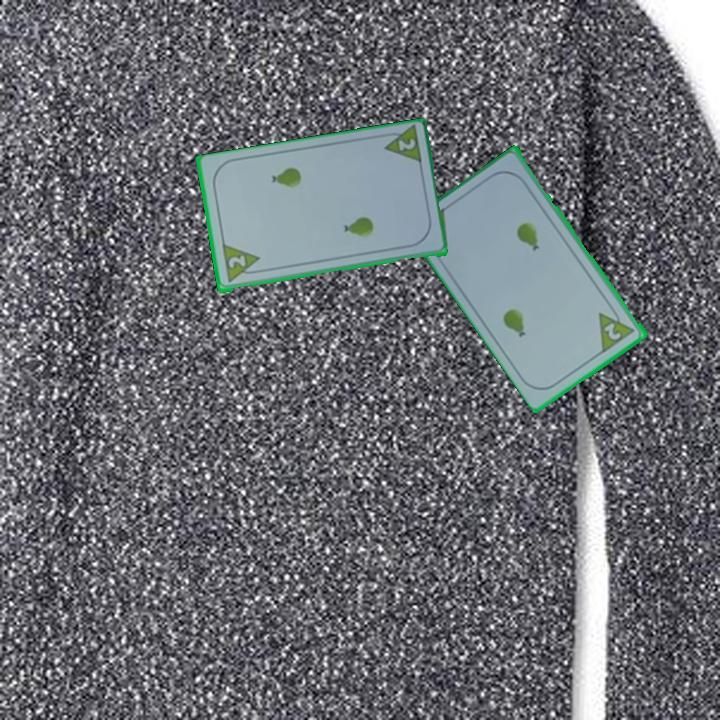2p: (595, 302, 639, 355), (218, 242, 264, 286), (394, 136, 418, 154)
